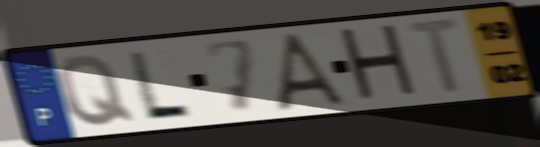7: (202, 36, 259, 117)
A: (273, 30, 355, 112)
H: (335, 21, 424, 106)
L: (125, 48, 195, 120)
Q: (53, 53, 139, 129)
T: (403, 15, 468, 99)
